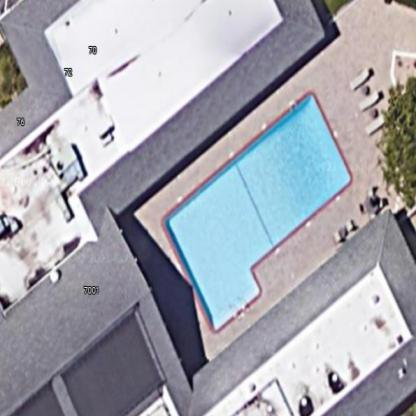pool: (152, 83, 360, 337)
